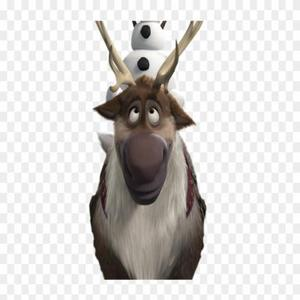sven: (99, 63, 220, 272)
